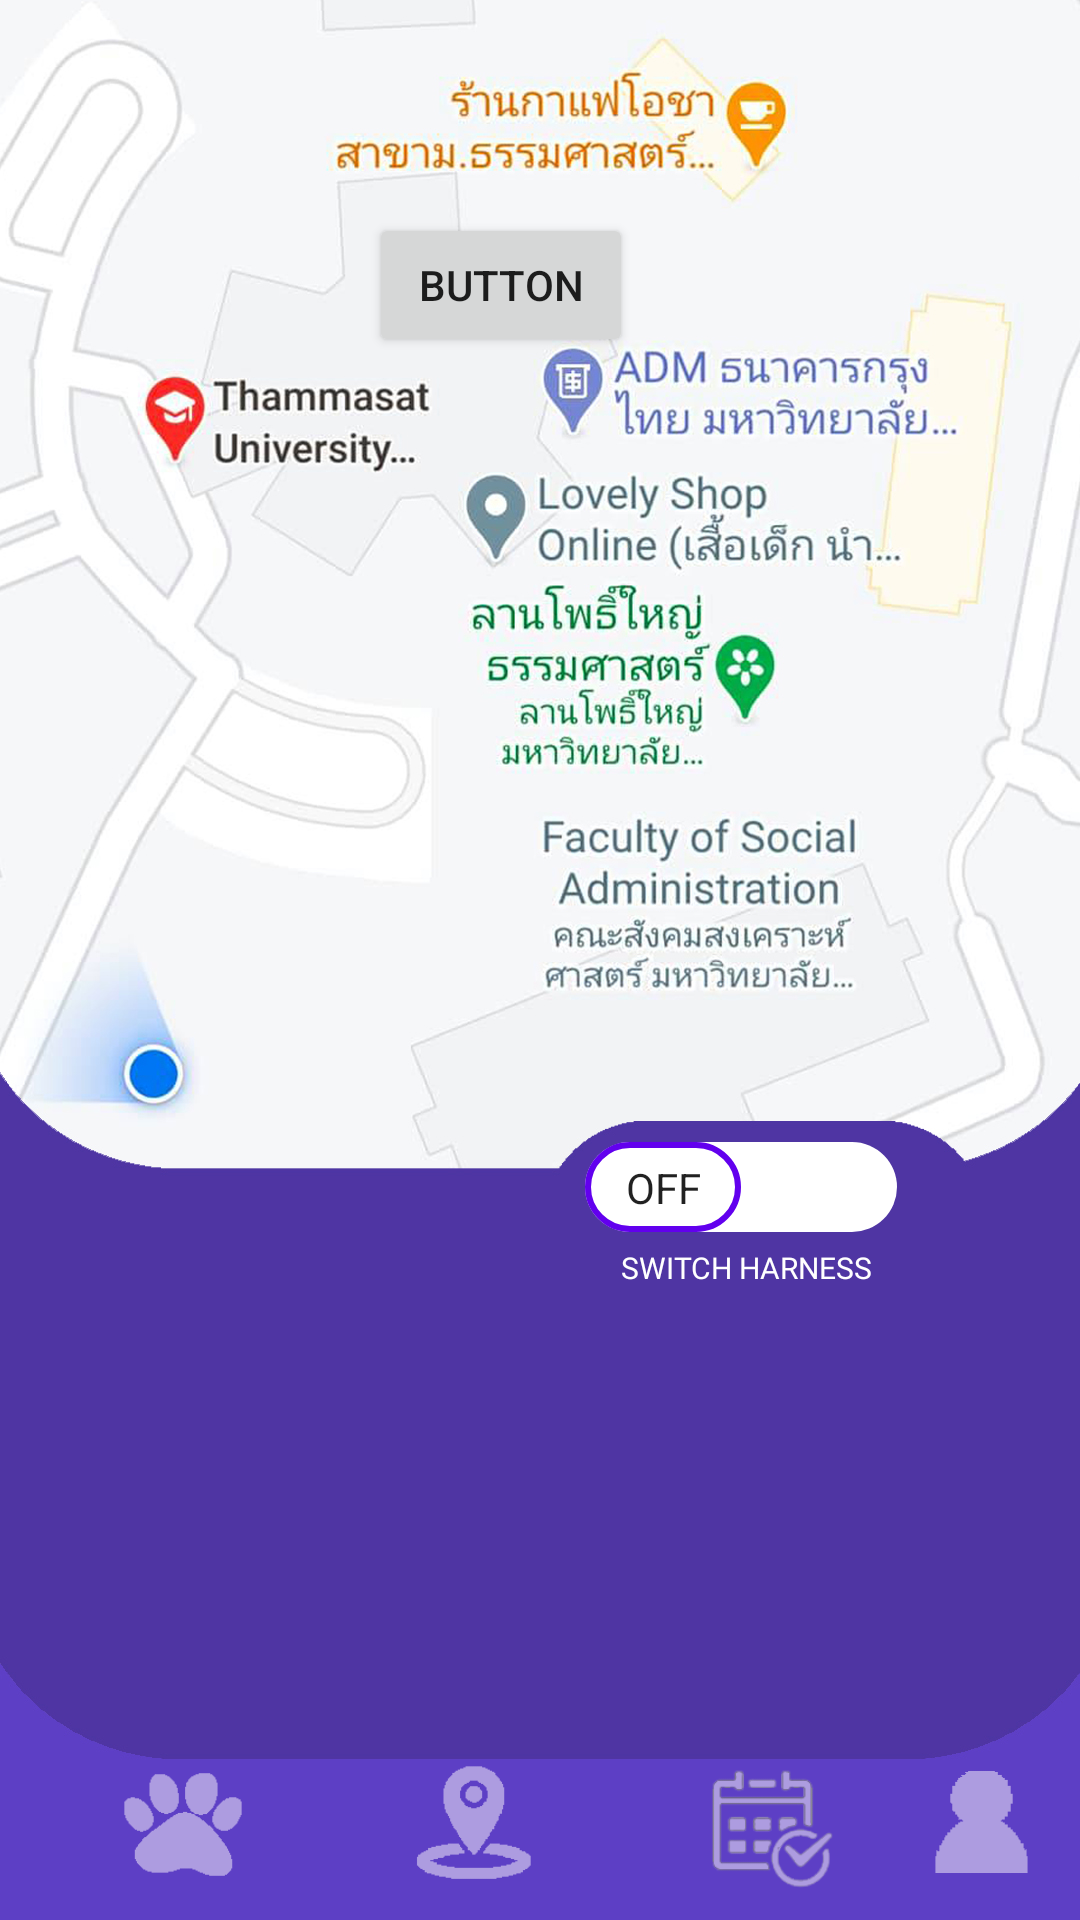

Screen size 1080w x 1920h. Icon name, then its box in pixels as (x1, y1, x2, y2):
dog: (124, 1773, 242, 1876)
schedule: (712, 1771, 832, 1887)
track: (417, 1766, 531, 1879)
user: (935, 1771, 1028, 1873)
